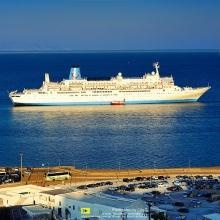youlun: (9, 60, 203, 106)
